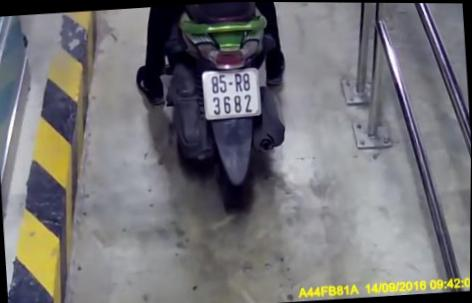LP: (199, 63, 262, 121)
